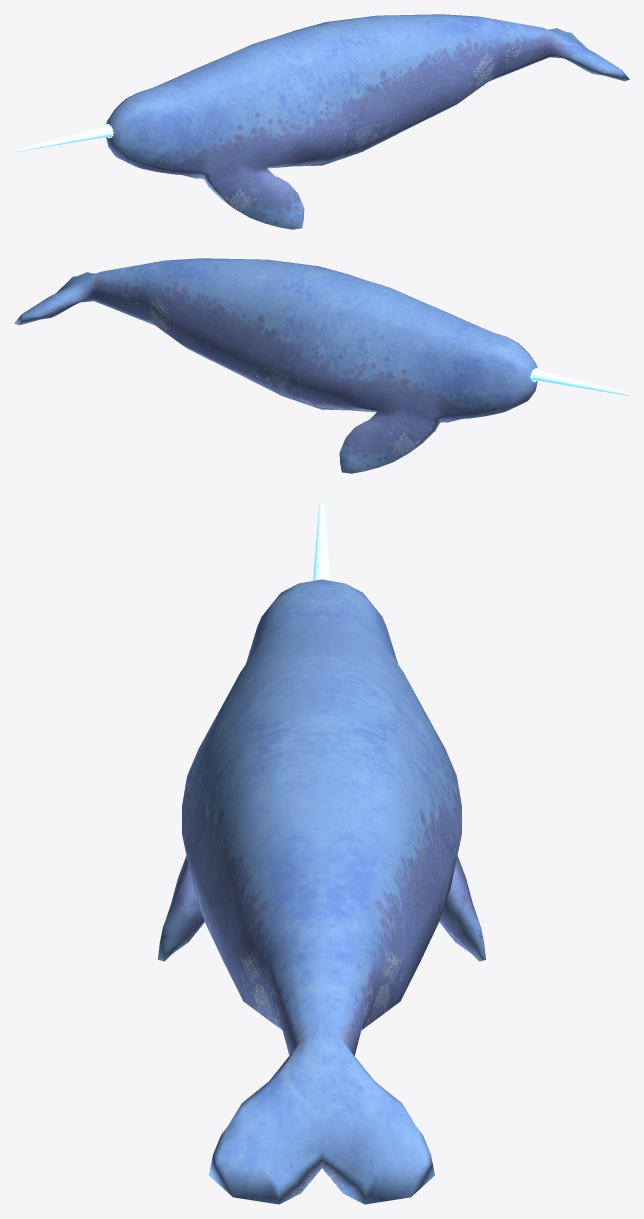
Rendered from Luke.glb.
3 renders of one model, top to bottom at view 1: azimuth 30°, elevation 25°; view 2: azimuth 150°, elevation 25°; view 3: azimuth 270°, elevation 25°, orthographic. The views are drawn at different scales.
Parts seen in each view (by area): view 1: Uni; view 2: Uni; view 3: Uni.
Boxes of the visible parts, x1=… form: Uni: x1=14, y1=14, x2=629, y2=229; Uni: x1=14, y1=258, x2=629, y2=473; Uni: x1=158, y1=502, x2=485, y2=1204.
Size of the model in its own units: 14.22 by 3.51 by 3.41.
Materials: 1 (1 with a texture image).
